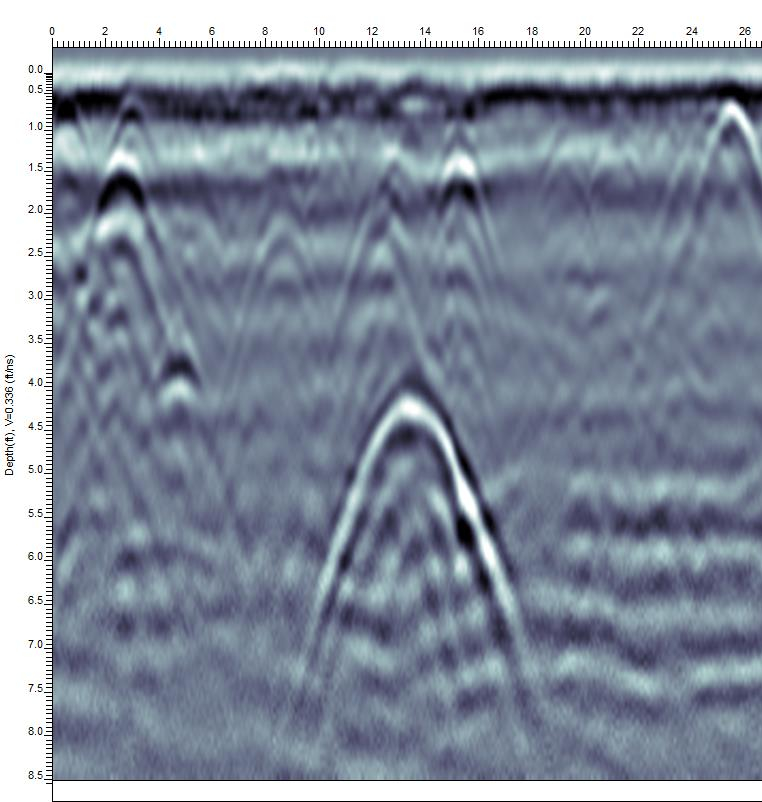hyperbola: (315, 379, 516, 659), (339, 159, 431, 353), (426, 137, 502, 361), (234, 188, 322, 366), (663, 102, 762, 250)
